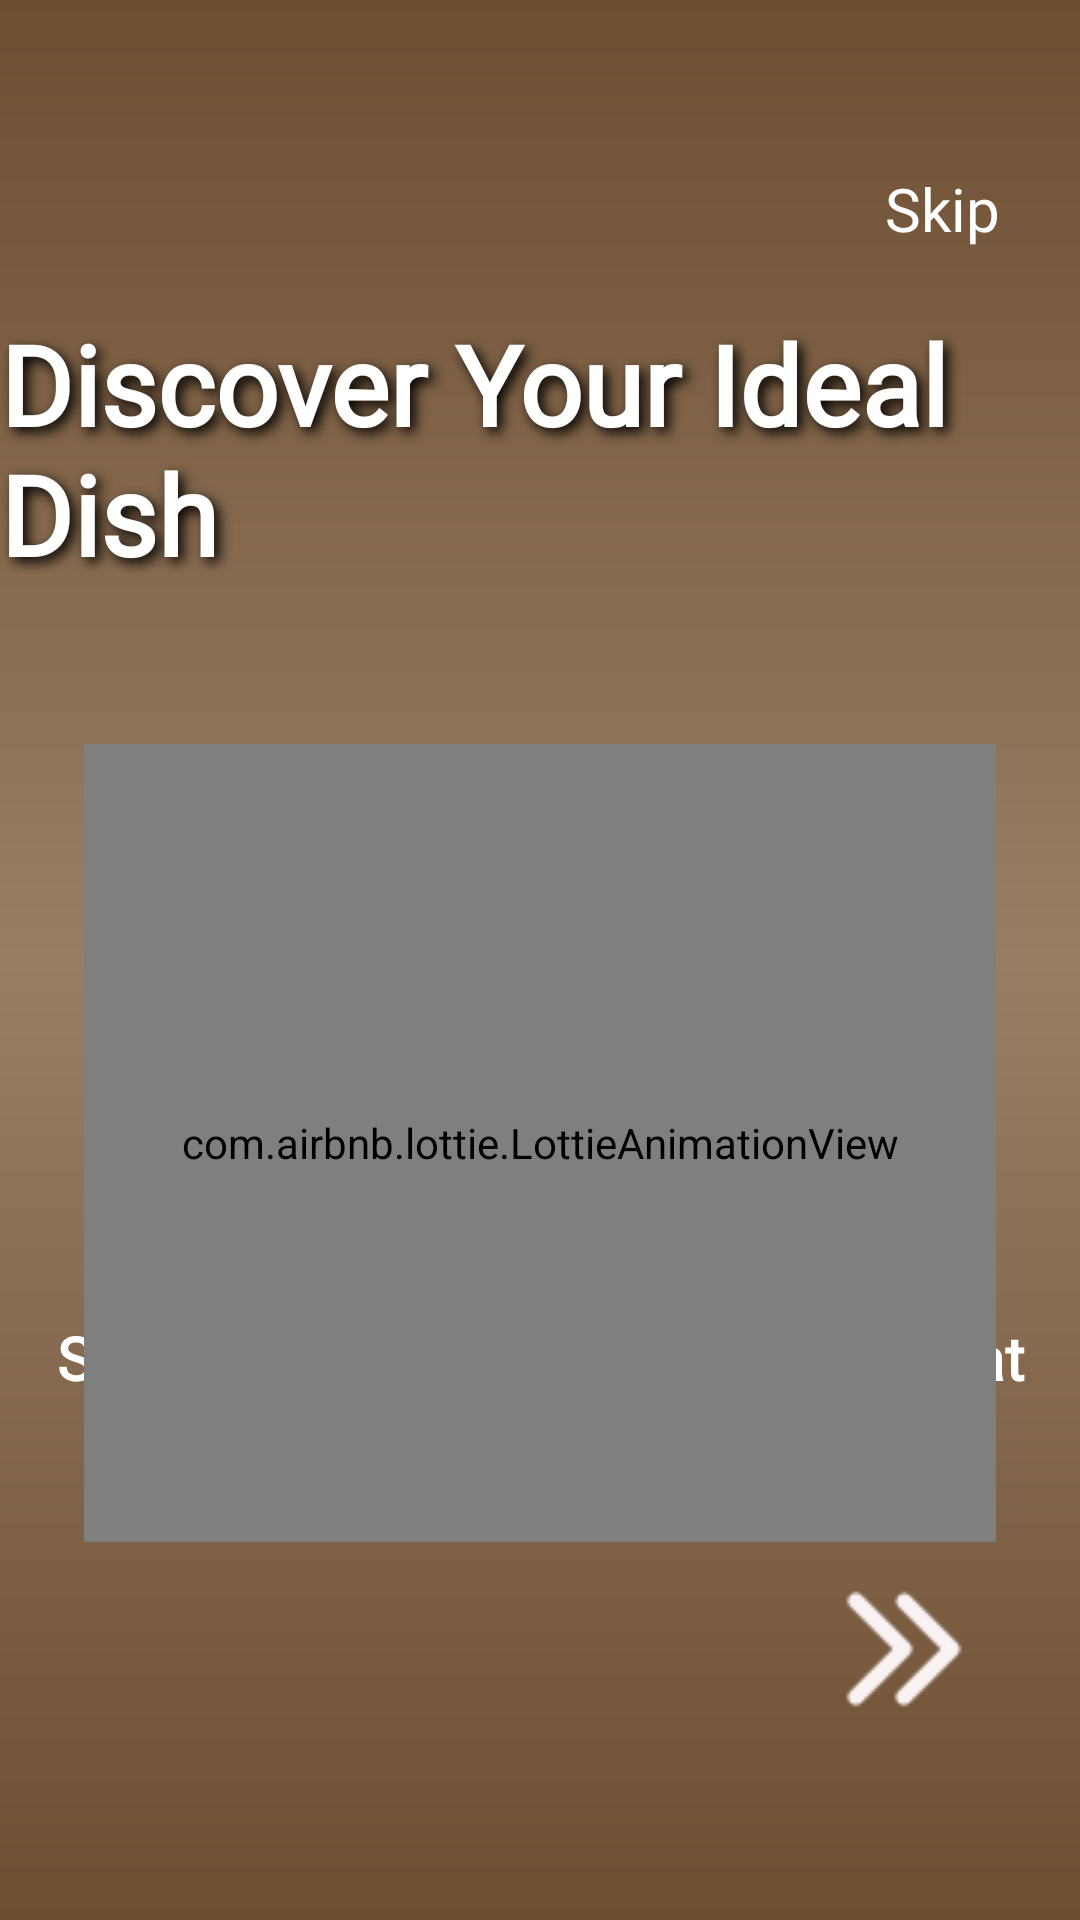

Icons on this 1080px×1920px Android screen, each with its box as (x1, y1, x2, y2):
next page: (846, 1591, 962, 1707)
